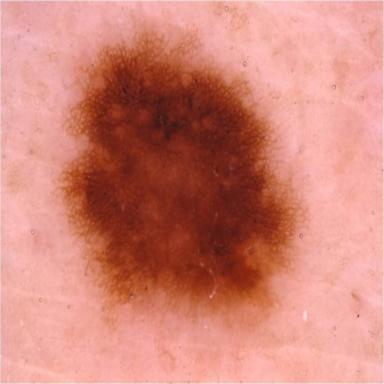nevus: (55, 27, 304, 330)
